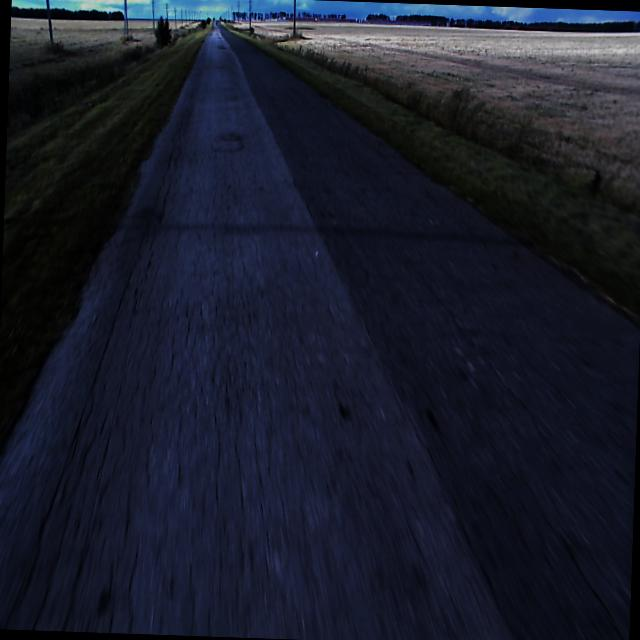road: (0, 21, 640, 640)
